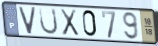0: (81, 9, 98, 39)
7: (100, 10, 118, 40)
9: (121, 11, 139, 41)
U: (38, 7, 59, 36)
V: (18, 6, 38, 36)
X: (58, 8, 80, 38)
